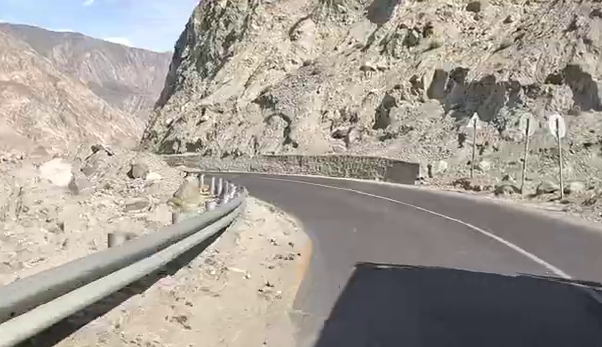right: (231, 147, 602, 311)
